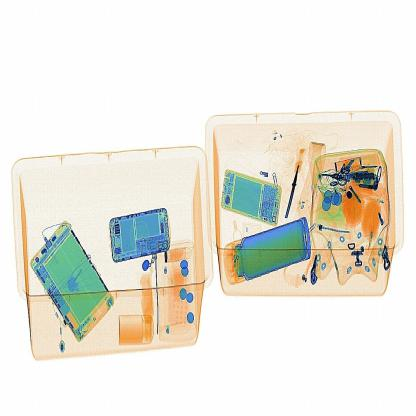gun: (281, 141, 308, 215)
